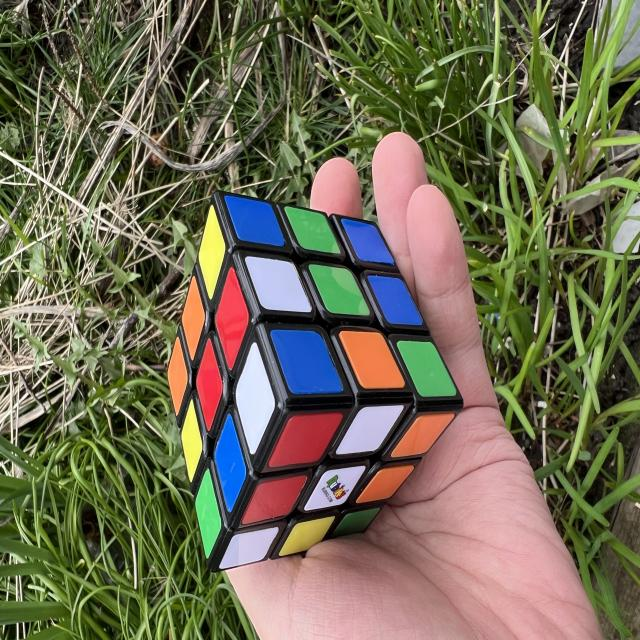blue: (266, 313, 345, 410), (207, 412, 252, 513), (365, 263, 424, 338), (338, 206, 396, 278), (218, 194, 291, 248)
center: (307, 250, 371, 330), (302, 450, 367, 526), (193, 337, 225, 431)
green: (393, 327, 459, 410), (307, 250, 371, 330), (283, 193, 341, 267), (187, 469, 229, 558), (326, 507, 384, 538)
orange: (336, 316, 406, 403), (387, 395, 457, 472), (354, 450, 415, 517), (173, 275, 214, 360), (165, 336, 191, 416)
red: (264, 393, 344, 486), (203, 267, 261, 371), (233, 471, 314, 526), (192, 337, 226, 431)
white: (224, 341, 285, 455), (242, 241, 313, 328), (333, 387, 405, 472), (301, 449, 367, 526), (213, 525, 285, 570)
yellow: (187, 205, 236, 299), (273, 514, 340, 557), (180, 399, 204, 482)
